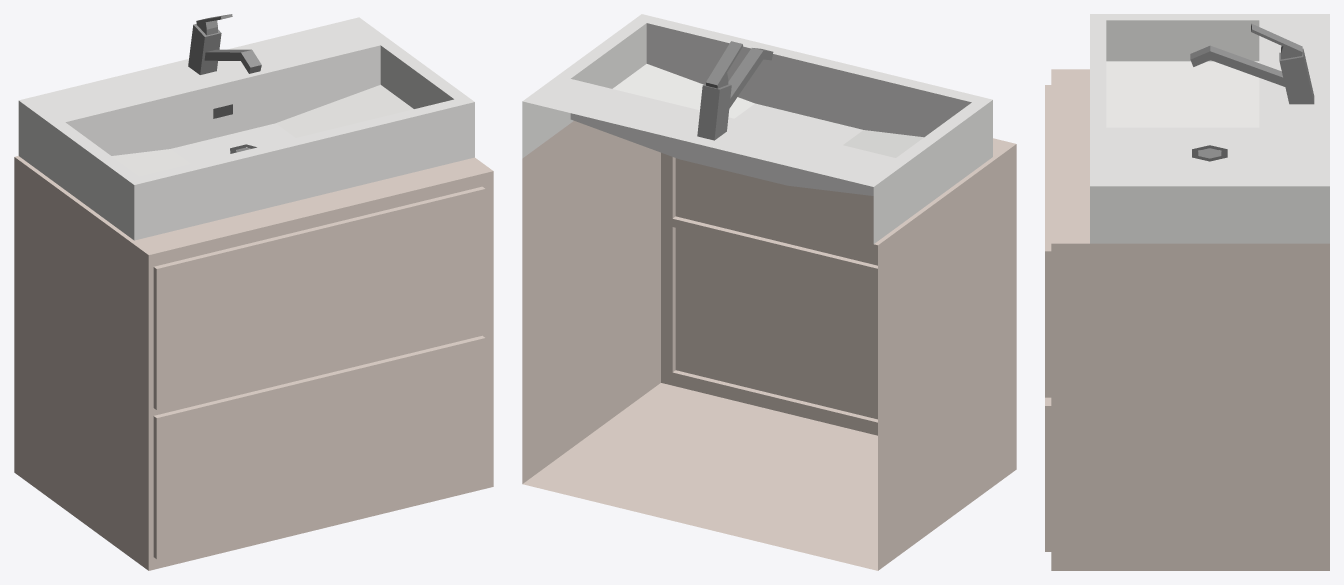
Rendered from Washbasin1_231109.glb.
3 views of the same model, side by side, from view 1: azimuth 30°, elevation 25°; view 2: azimuth 150°, elevation 25°; view 3: azimuth 270°, elevation 25° (orthographic). The views are drawn at different scales.
Parts seen in each view (by area): view 1: Washbasin1; view 2: Washbasin1; view 3: Washbasin1.
Part boxes in pixels (box(x1,y1,x2,y2)): Washbasin1: box(14, 14, 493, 570); Washbasin1: box(522, 14, 1016, 570); Washbasin1: box(1045, 14, 1329, 570).
Bounding box in the file's own units: 1.38 × 1.7 × 0.9554.
Materials: 1 (1 with a texture image).
